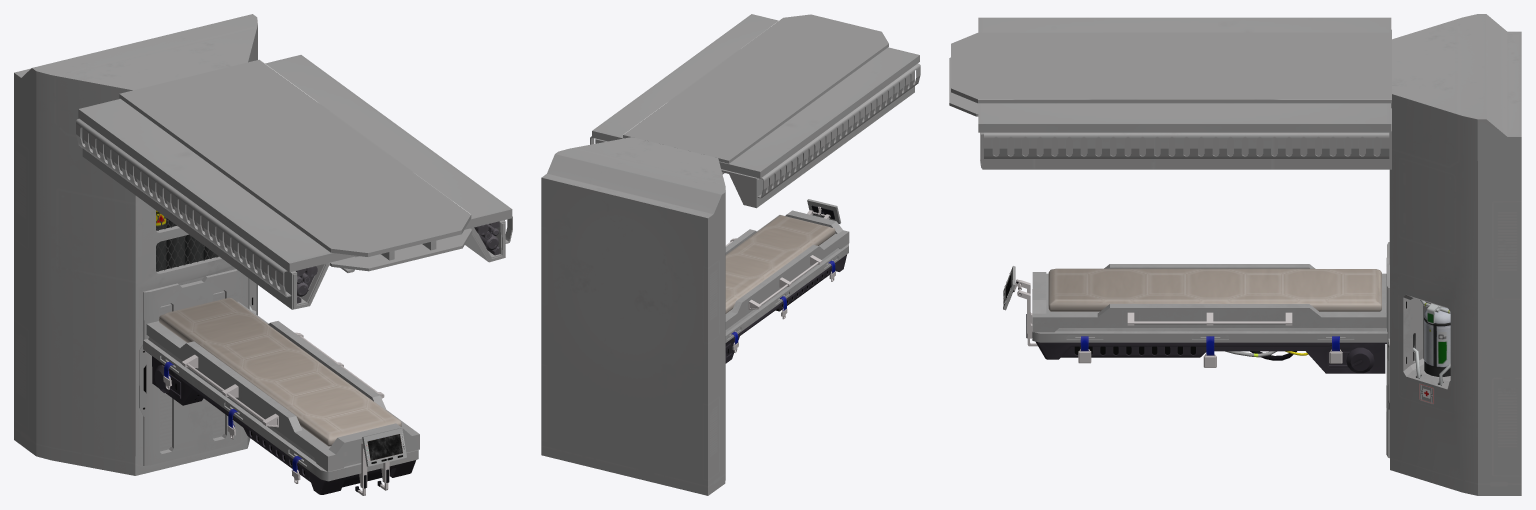
File: med_bay_table.glb
The picture shows the model from 3 angles, left to right: view 1: azimuth 30°, elevation 25°; view 2: azimuth 150°, elevation 25°; view 3: azimuth 270°, elevation 25°; orthographic projection. The views are drawn at different scales.
Parts seen in each view (by area): view 1: medbay.003_low, medbay.023_low, medbay.025_low, medbay.040_low, medbay.007_low, medbay.024_low, medbay.026_low, medbay.008_low, medbay.009_low, medbay.001_low, medbay.022_low, medbay.002_low (+3 smaller); view 2: medbay.003_low, medbay.023_low, medbay.025_low, medbay.040_low, medbay.026_low, medbay.007_low, medbay.024_low, medbay.008_low, medbay.009_low, medbay.022_low; view 3: medbay.003_low, medbay.023_low, medbay.025_low, medbay.040_low, medbay.007_low, medbay.024_low, medbay.026_low, medbay.008_low, medbay.009_low, medbay.004_low.
Boxes of the visible parts, x1,y1,x2,y2 form: medbay.003_low: (14,14,257,475); medbay.023_low: (119,59,471,260); medbay.025_low: (78,55,512,272); medbay.040_low: (159,298,401,446); medbay.007_low: (146,301,419,471); medbay.024_low: (82,128,505,309); medbay.026_low: (76,118,512,297); medbay.008_low: (143,337,418,494); medbay.009_low: (152,356,391,487); medbay.001_low: (156,210,218,271); medbay.022_low: (362,428,406,466); medbay.002_low: (160,291,224,449); medbay.003_low: (541,137,725,495); medbay.023_low: (623,14,888,163); medbay.025_low: (592,14,919,178); medbay.040_low: (725,215,835,313); medbay.026_low: (590,63,920,198); medbay.007_low: (725,210,849,329); medbay.024_low: (595,71,914,208); medbay.008_low: (725,243,848,342); medbay.009_low: (725,268,831,363); medbay.022_low: (807,199,840,223); medbay.003_low: (1386,14,1521,495); medbay.023_low: (951,32,1391,103); medbay.025_low: (978,17,1391,132); medbay.040_low: (1048,268,1381,311); medbay.007_low: (1032,264,1386,332); medbay.024_low: (949,29,1391,169); medbay.026_low: (984,132,1389,158); medbay.008_low: (1032,289,1387,359); medbay.009_low: (1061,344,1385,373); medbay.004_low: (1424,307,1450,376).
Bounding box in the file's own units: 1.46 × 2.35 × 3.23.
3 materials, 3 textured.
